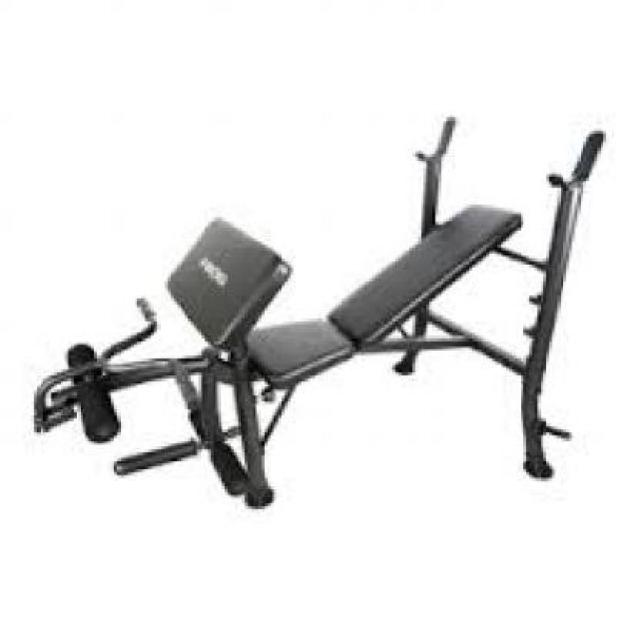arm curl machine: (31, 214, 349, 511)
